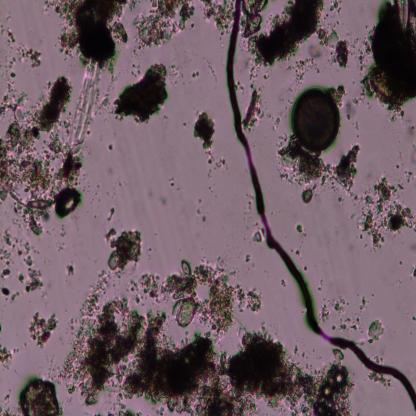Background material: (63, 275, 354, 415), (0, 72, 84, 222), (162, 257, 260, 334), (354, 0, 416, 116), (247, 2, 324, 79), (46, 0, 128, 67), (355, 169, 416, 250), (111, 62, 169, 124), (131, 0, 196, 53), (66, 61, 101, 159), (274, 141, 332, 191), (316, 290, 368, 334), (193, 108, 227, 172), (104, 225, 142, 274), (17, 376, 62, 415), (331, 144, 360, 199), (317, 28, 351, 72), (17, 240, 44, 294), (199, 0, 235, 36), (240, 86, 264, 134), (240, 0, 268, 41), (294, 44, 320, 86), (127, 275, 163, 305), (28, 312, 58, 346), (54, 185, 83, 218), (0, 230, 16, 280), (341, 98, 364, 131), (16, 44, 43, 70), (364, 368, 390, 386), (401, 115, 416, 145), (366, 318, 384, 342), (195, 194, 209, 224), (0, 343, 13, 372), (170, 63, 186, 86), (243, 194, 254, 226), (300, 188, 316, 205), (156, 191, 171, 208), (4, 27, 16, 45), (251, 230, 264, 246), (66, 262, 76, 280), (277, 272, 287, 290), (294, 221, 304, 236), (408, 261, 416, 278), (0, 285, 11, 297), (107, 208, 116, 222), (168, 175, 176, 189), (290, 245, 299, 257), (190, 69, 200, 79), (107, 141, 114, 154), (301, 264, 309, 272)
Diatom: (290, 87, 340, 150), (395, 1, 411, 32)
